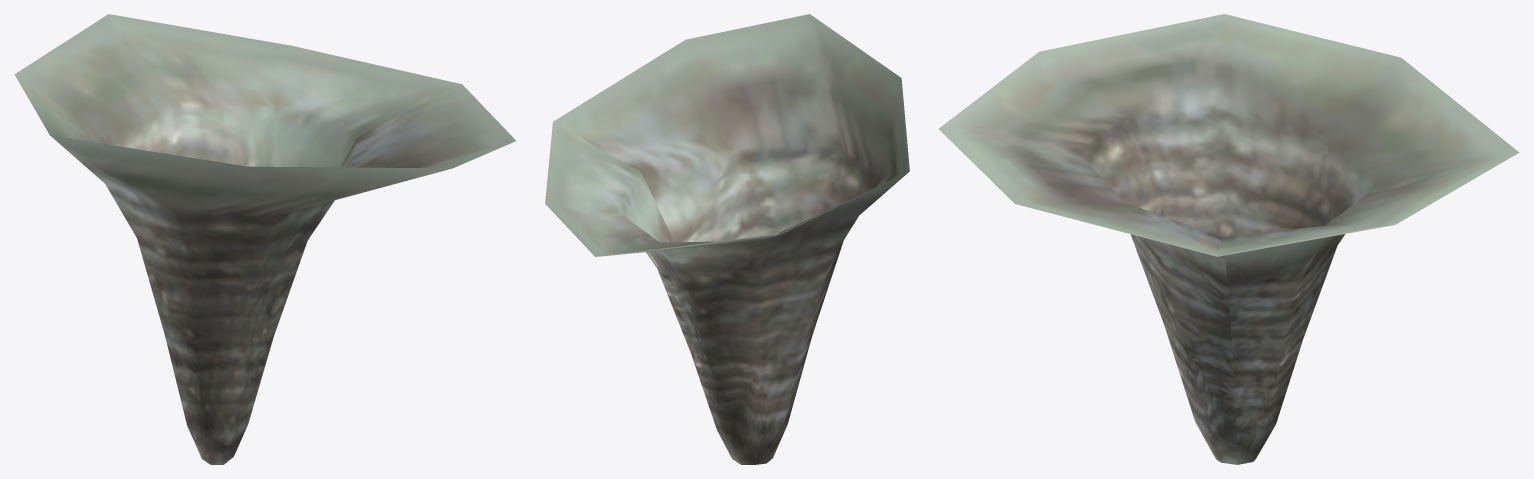
The model's file is TROLLHOLE02_PS-SECRETSTALAG33.fbx.
3 views of the same model, side by side, from view 1: azimuth 30°, elevation 25°; view 2: azimuth 150°, elevation 25°; view 3: azimuth 270°, elevation 25° (orthographic). The views are drawn at different scales.
Visible parts, largest first — view 1: TROLLHOLE02_PS-SECRETSTALAG33; view 2: TROLLHOLE02_PS-SECRETSTALAG33; view 3: TROLLHOLE02_PS-SECRETSTALAG33.
Boxes of the visible parts, box(x1,y1,x2,y2) form: TROLLHOLE02_PS-SECRETSTALAG33: box(14, 14, 515, 464); TROLLHOLE02_PS-SECRETSTALAG33: box(545, 14, 909, 464); TROLLHOLE02_PS-SECRETSTALAG33: box(939, 14, 1519, 464).
Bounding box in the file's own units: 20471 × 18250 × 25492.
Materials: 1 (1 with a texture image).
